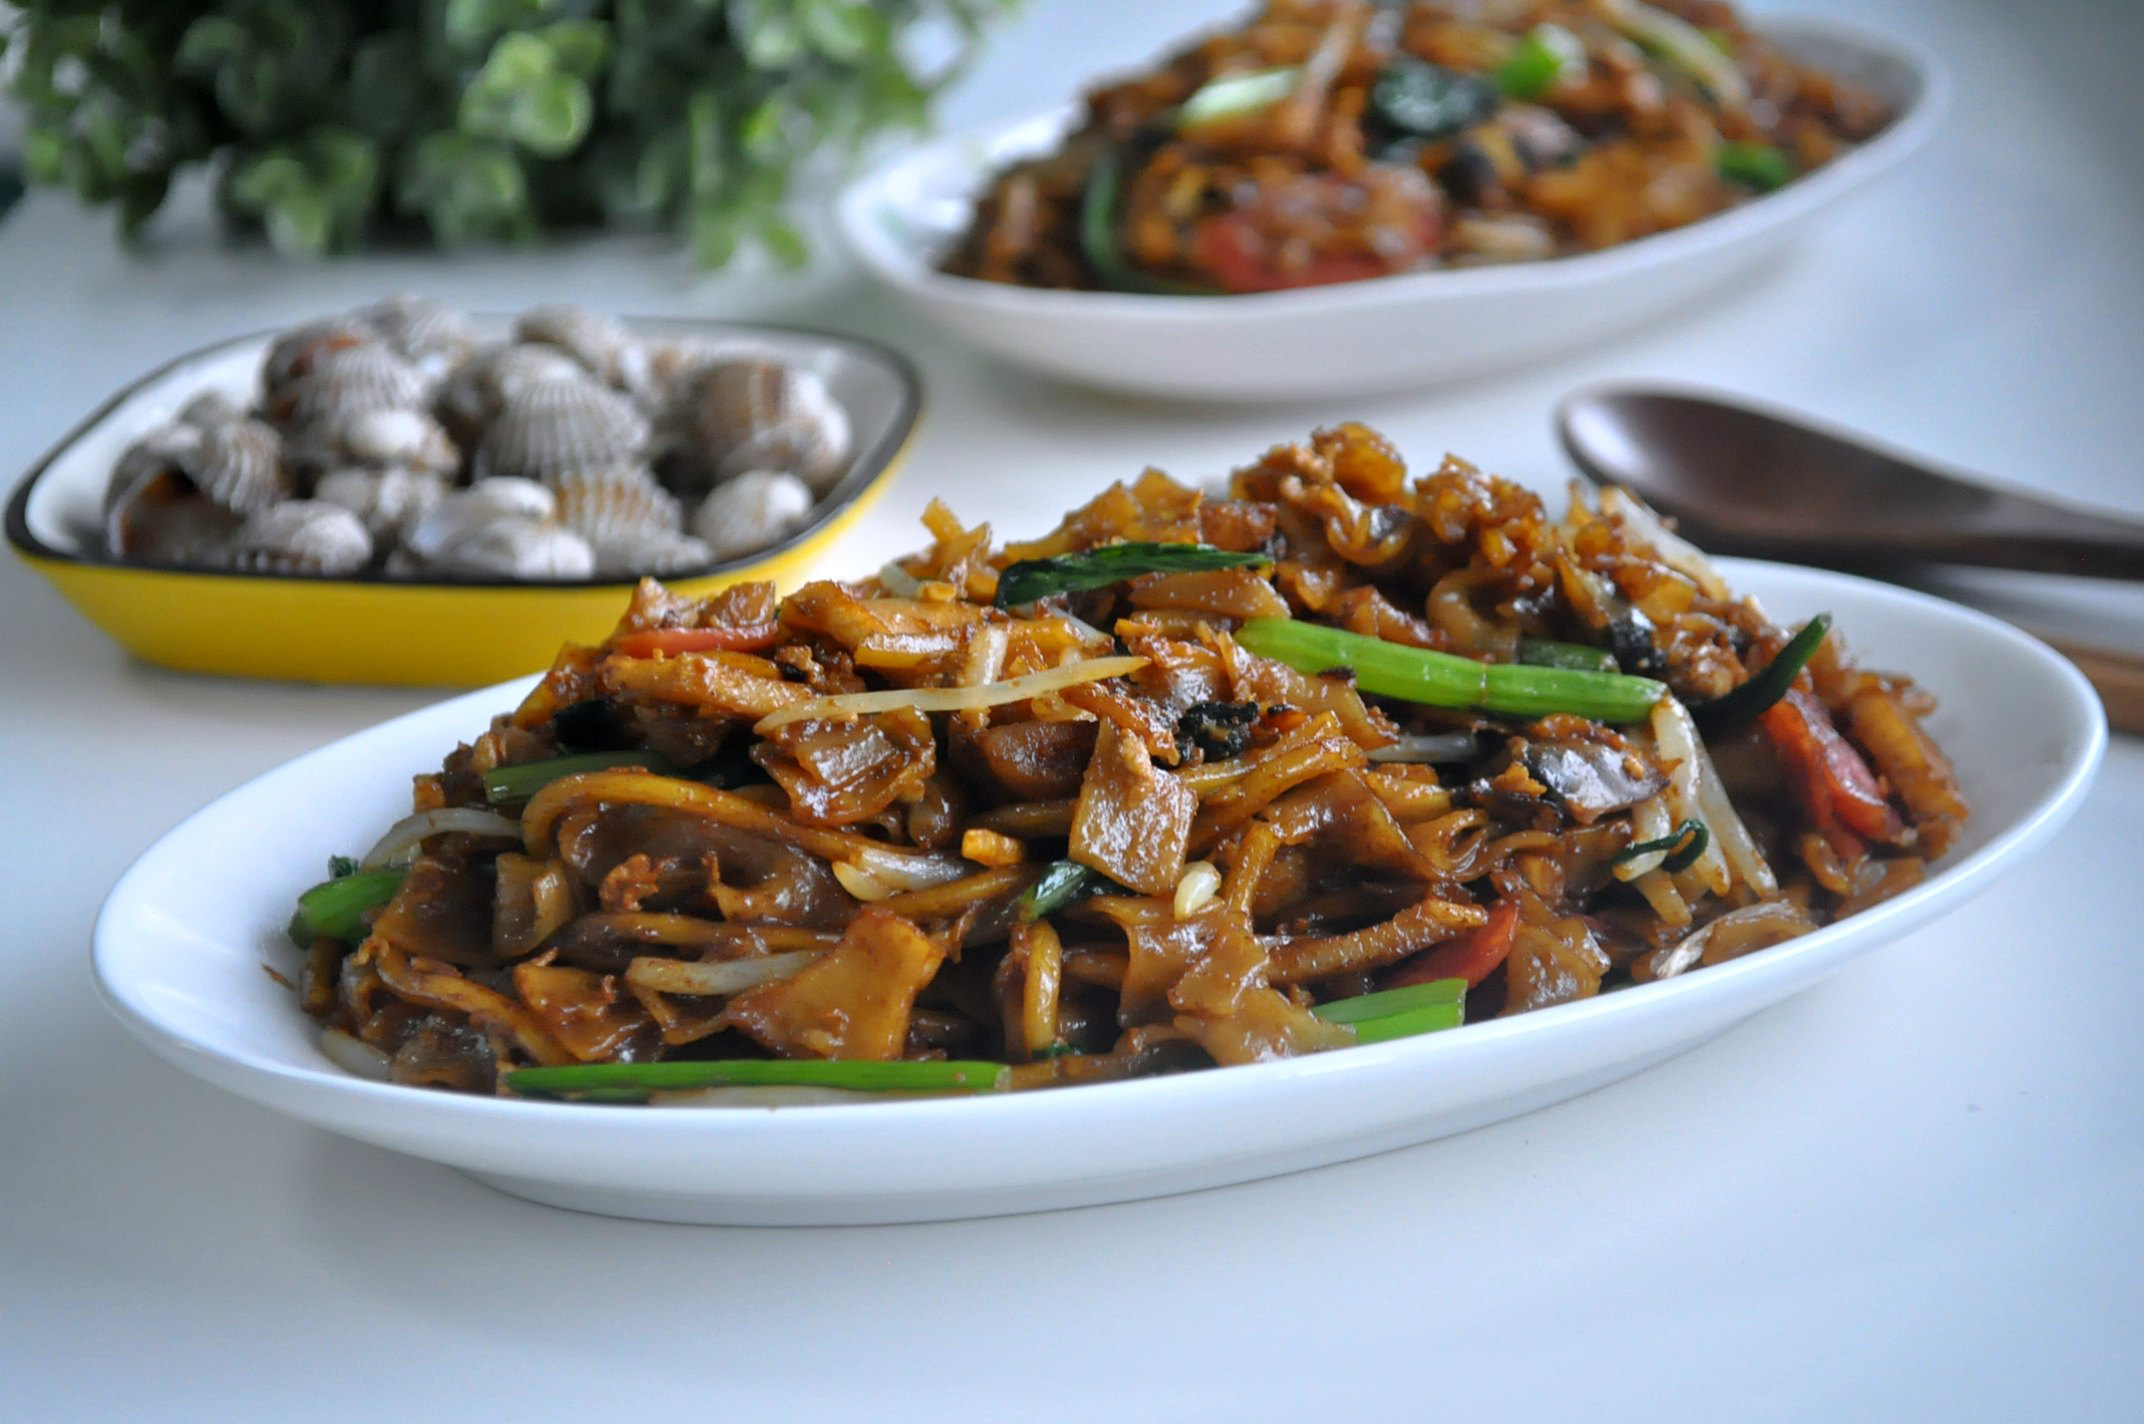Char Kway Teow: (211, 416, 2045, 1111), (839, 3, 1929, 304), (1122, 416, 1143, 462)
